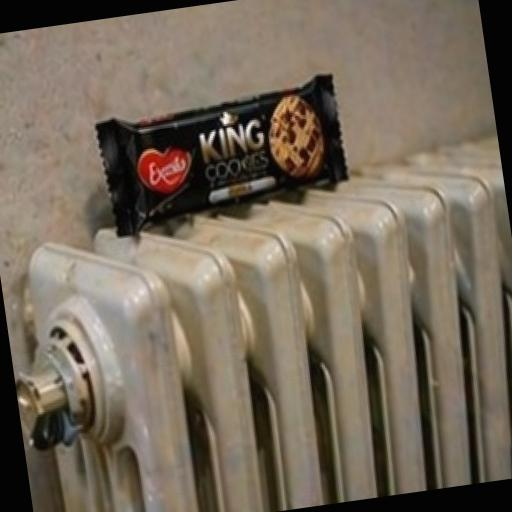king-cooking: (34, 24, 421, 286)
